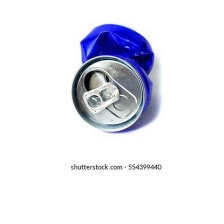can: (67, 20, 162, 134)
